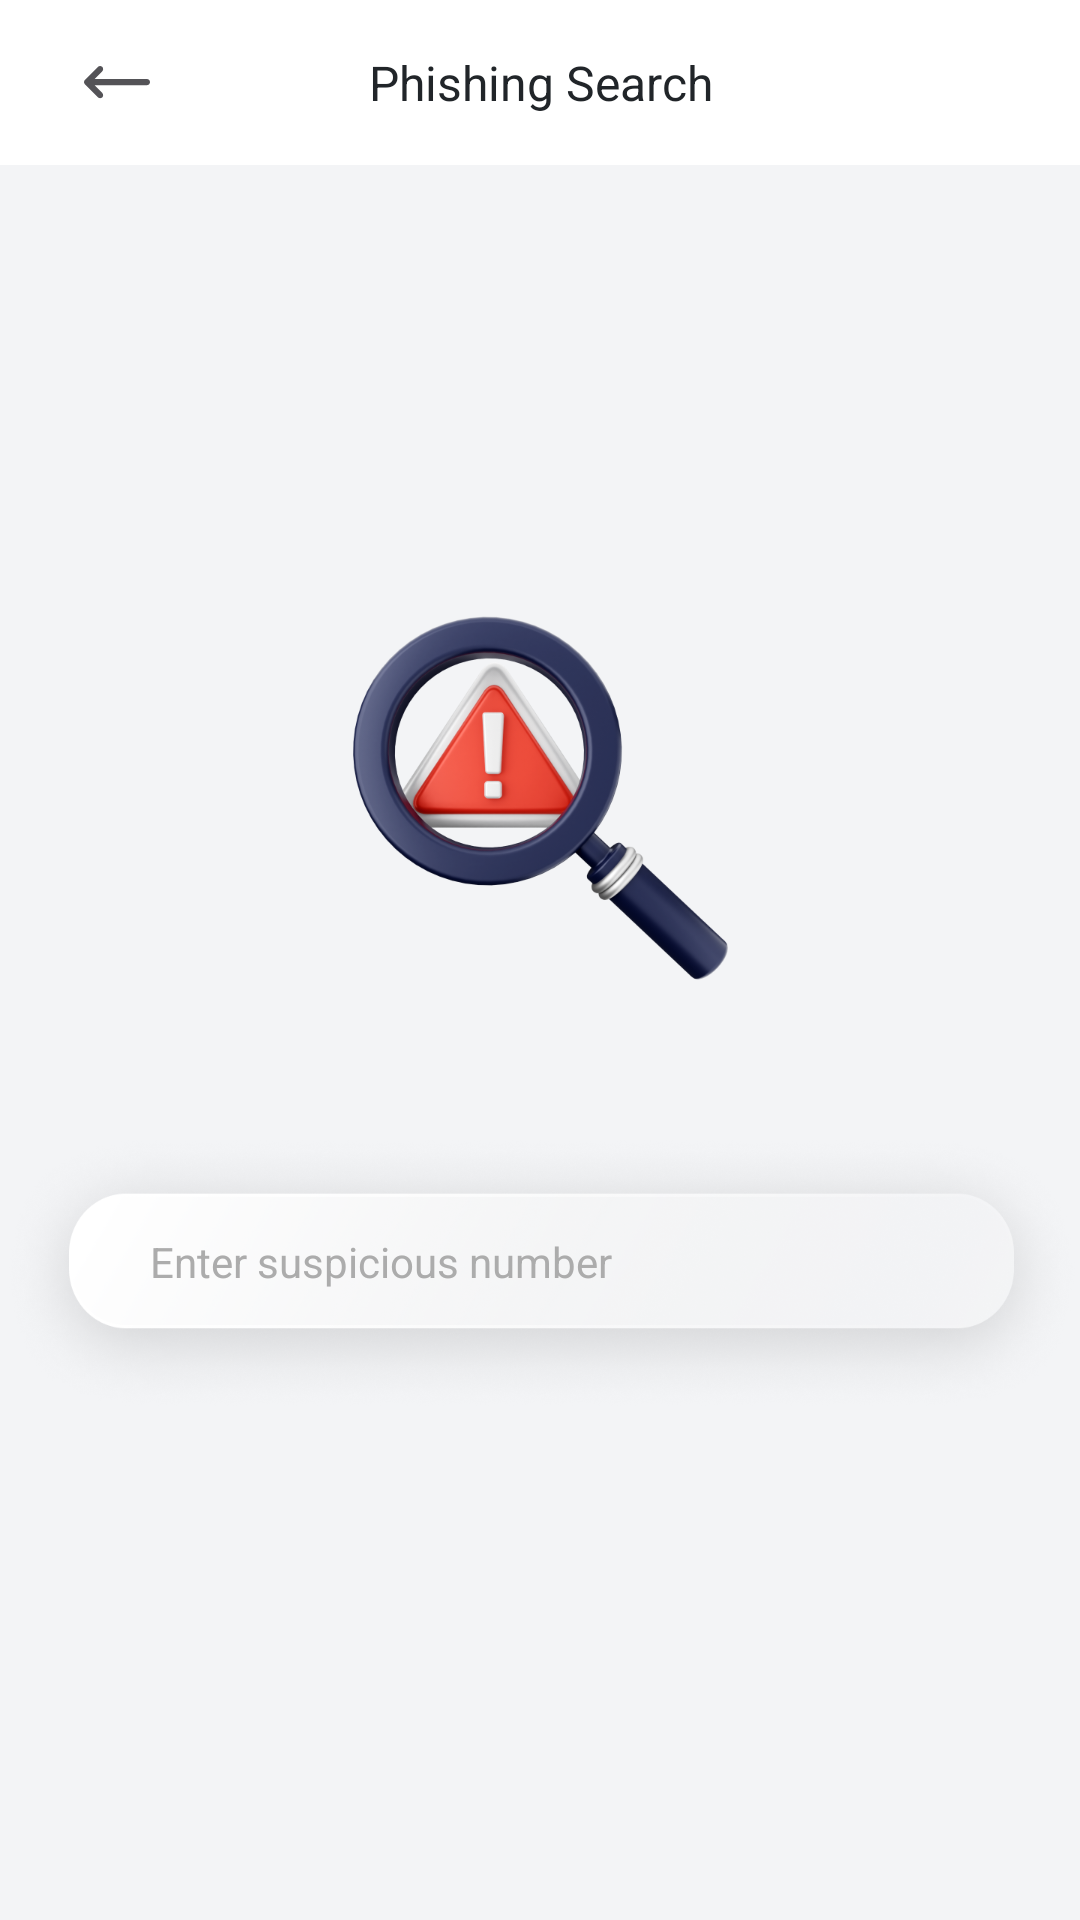

Point at icon controls on the screen. Image size 1080w x 1920h, points as (x=x, y=y).
back: (x=117, y=82)
